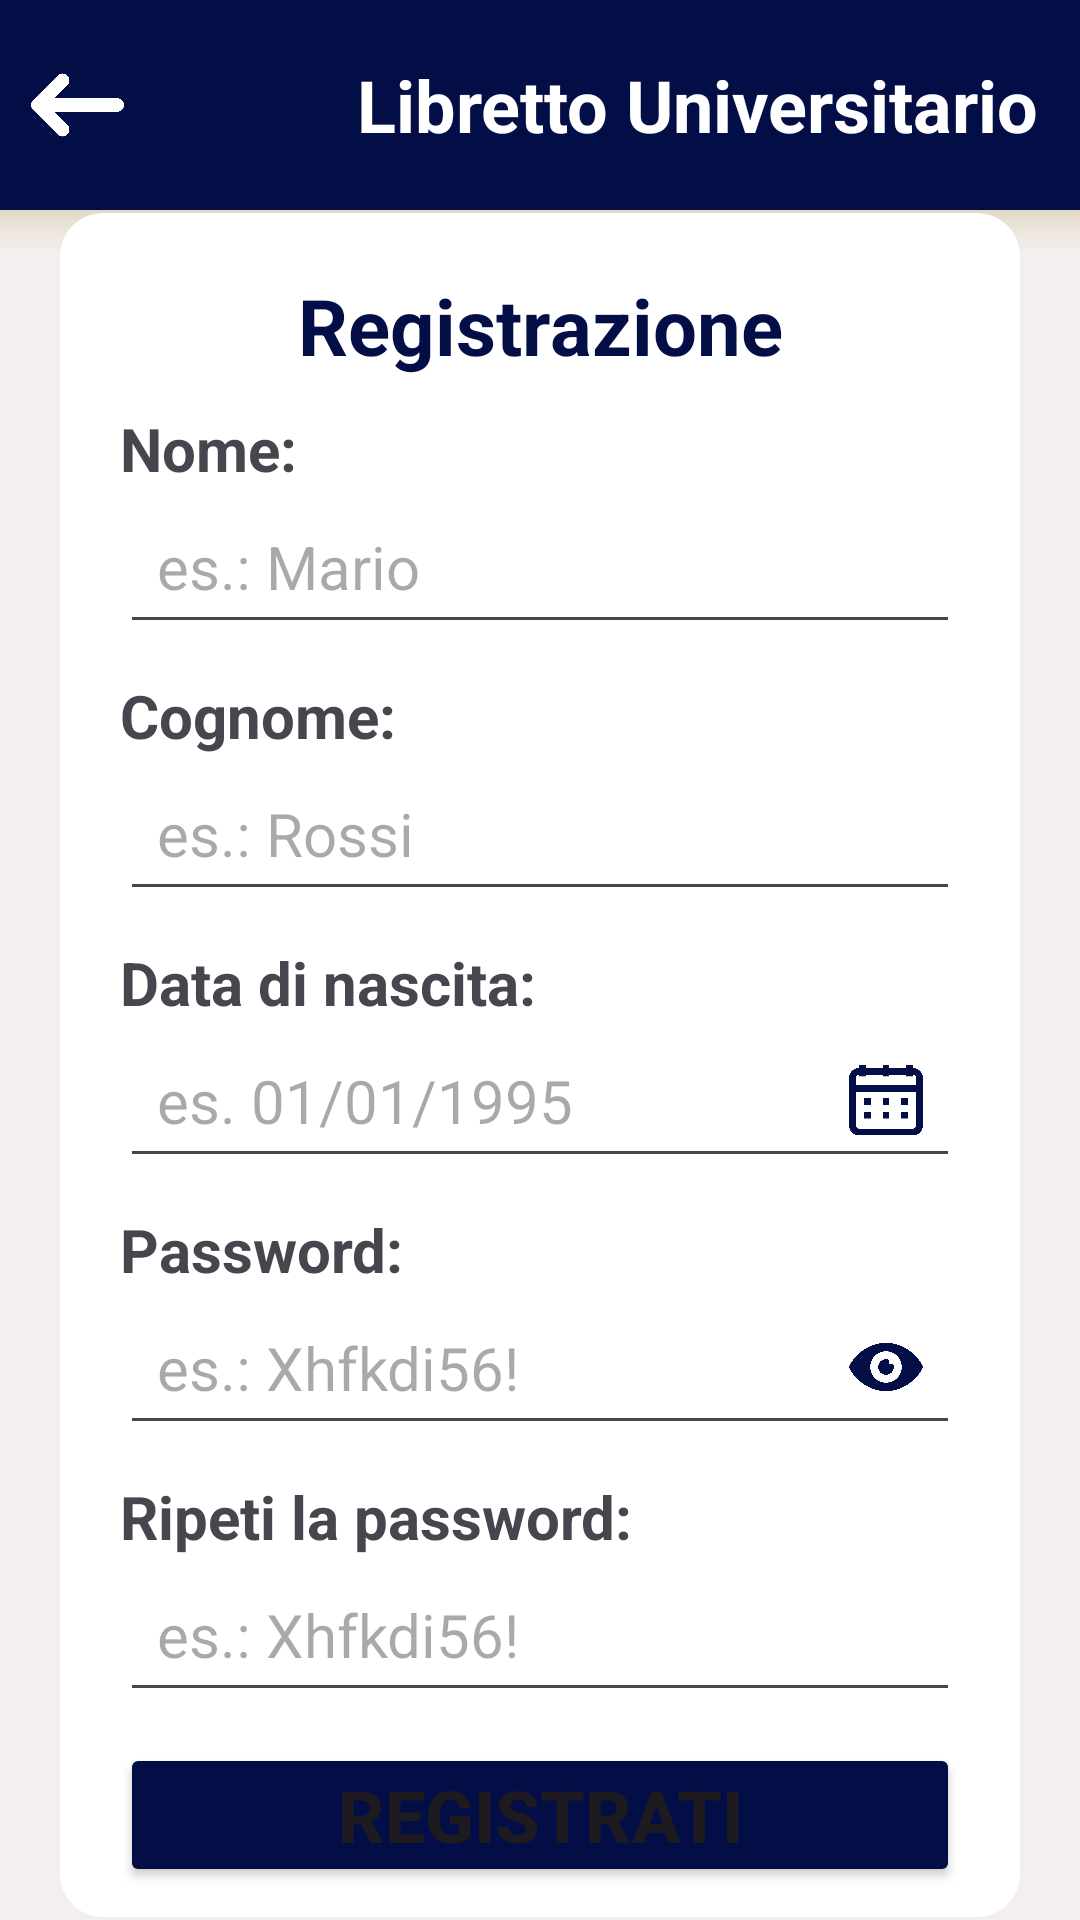

Named icons in this screenshot (1080×1920) and their centers, (x,y):
Calendario: (886,1100)
indietro: (77,105)
